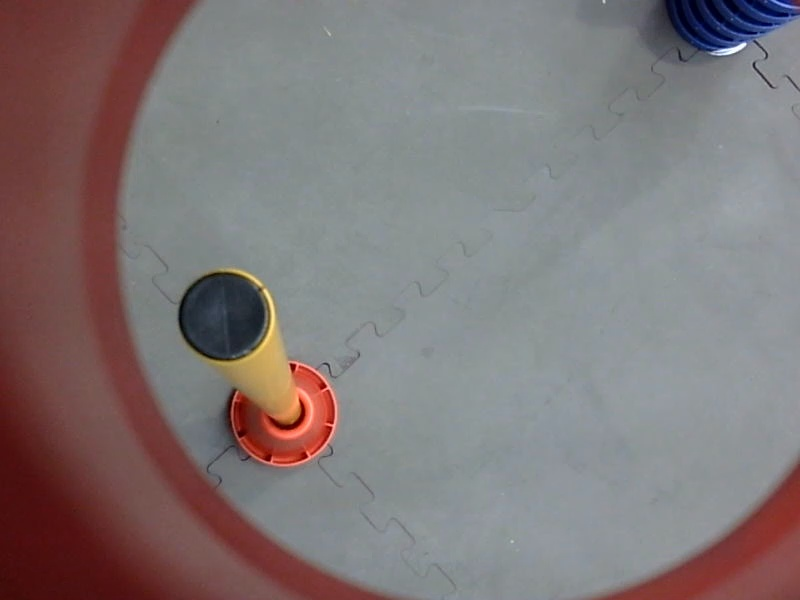tip: (170, 260, 283, 375)
